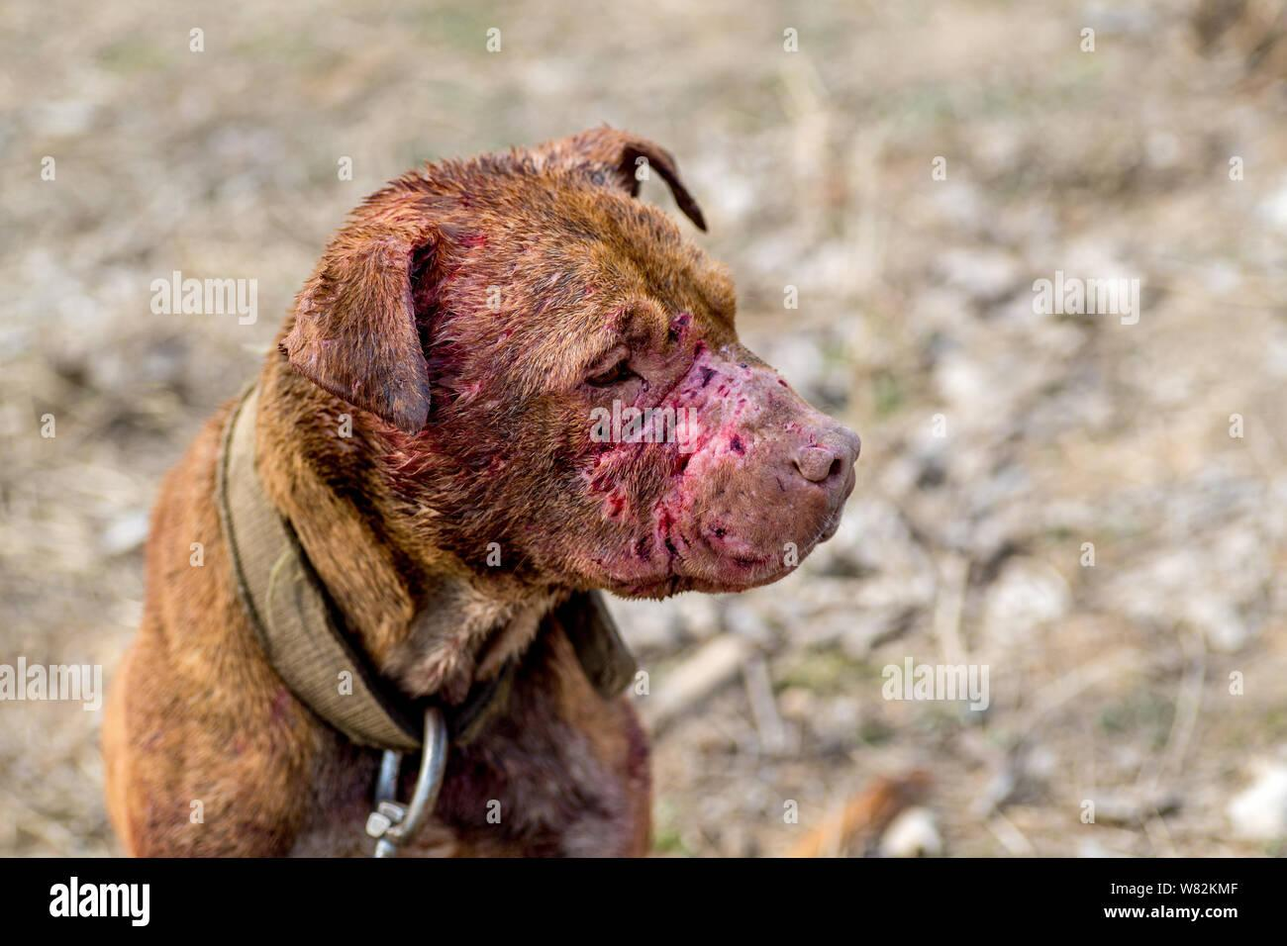infection: (295, 177, 851, 616)
